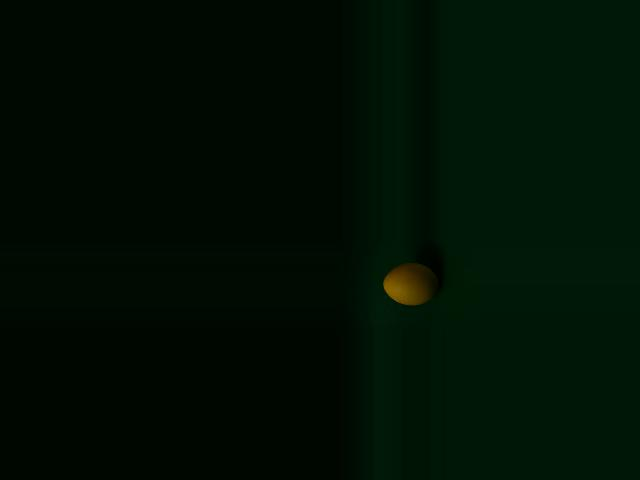egg: (382, 264, 438, 306)
